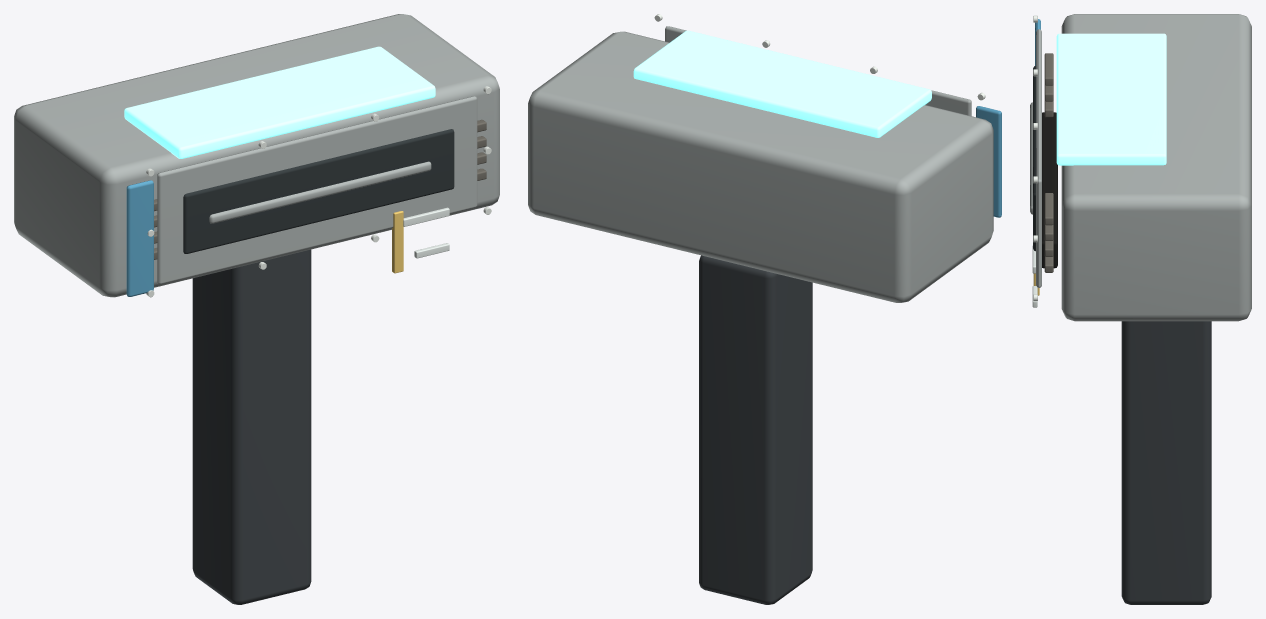
Rendered from hp_terminal_archive_reader.glb.
The picture shows the model from 3 angles, left to right: view 1: azimuth 30°, elevation 25°; view 2: azimuth 150°, elevation 25°; view 3: azimuth 270°, elevation 25°; orthographic projection. The views are drawn at different scales.
Parts seen in each view (by area): view 1: terminal_archive_reader_floor_stem, terminal_archive_reader_console_body, terminal_archive_reader_console_face_stacked_panel_01, terminal_archive_reader_scan_bed, terminal_archive_reader_console_face_stacked_panel_02, terminal_archive_reader_reader_color_spine_art_color_block, terminal_archive_reader_console_face_stacked_panel_03, terminal_archive_reader_reader_protocol_motif_spine; view 2: terminal_archive_reader_console_body, terminal_archive_reader_floor_stem, terminal_archive_reader_scan_bed, terminal_archive_reader_reader_color_spine_art_color_block, terminal_archive_reader_console_face_stacked_panel_01; view 3: terminal_archive_reader_console_body, terminal_archive_reader_floor_stem, terminal_archive_reader_scan_bed, terminal_archive_reader_archive_slot, terminal_archive_reader_console_face_stacked_panel_01, terminal_archive_reader_console_face_stacked_panel_02, terminal_archive_reader_console_face_stacked_panel_03, terminal_archive_reader_vent_slit_04, terminal_archive_reader_vent_slit_04.001.
Part boxes in pixels (x1,y1,x2,y2): terminal_archive_reader_floor_stem: (192, 249, 311, 604); terminal_archive_reader_console_body: (14, 14, 499, 297); terminal_archive_reader_console_face_stacked_panel_01: (157, 96, 477, 284); terminal_archive_reader_scan_bed: (124, 46, 435, 158); terminal_archive_reader_console_face_stacked_panel_02: (183, 129, 454, 253); terminal_archive_reader_reader_color_spine_art_color_block: (126, 180, 153, 296); terminal_archive_reader_console_face_stacked_panel_03: (209, 161, 431, 223); terminal_archive_reader_reader_protocol_motif_spine: (392, 211, 403, 273); terminal_archive_reader_console_body: (528, 31, 993, 302); terminal_archive_reader_floor_stem: (699, 255, 812, 604); terminal_archive_reader_scan_bed: (633, 30, 931, 137); terminal_archive_reader_reader_color_spine_art_color_block: (976, 106, 1001, 217); terminal_archive_reader_console_face_stacked_panel_01: (665, 26, 971, 115); terminal_archive_reader_console_body: (1061, 14, 1251, 321); terminal_archive_reader_floor_stem: (1121, 321, 1211, 604); terminal_archive_reader_scan_bed: (1056, 33, 1166, 165); terminal_archive_reader_archive_slot: (1042, 112, 1057, 268); terminal_archive_reader_console_face_stacked_panel_01: (1036, 29, 1041, 287); terminal_archive_reader_console_face_stacked_panel_02: (1033, 66, 1035, 251); terminal_archive_reader_console_face_stacked_panel_03: (1030, 102, 1032, 214); terminal_archive_reader_vent_slit_04: (1044, 53, 1053, 85); terminal_archive_reader_vent_slit_04.001: (1044, 193, 1053, 225).
Size of the model in its own units: 0.9 by 1.09 by 0.443.
